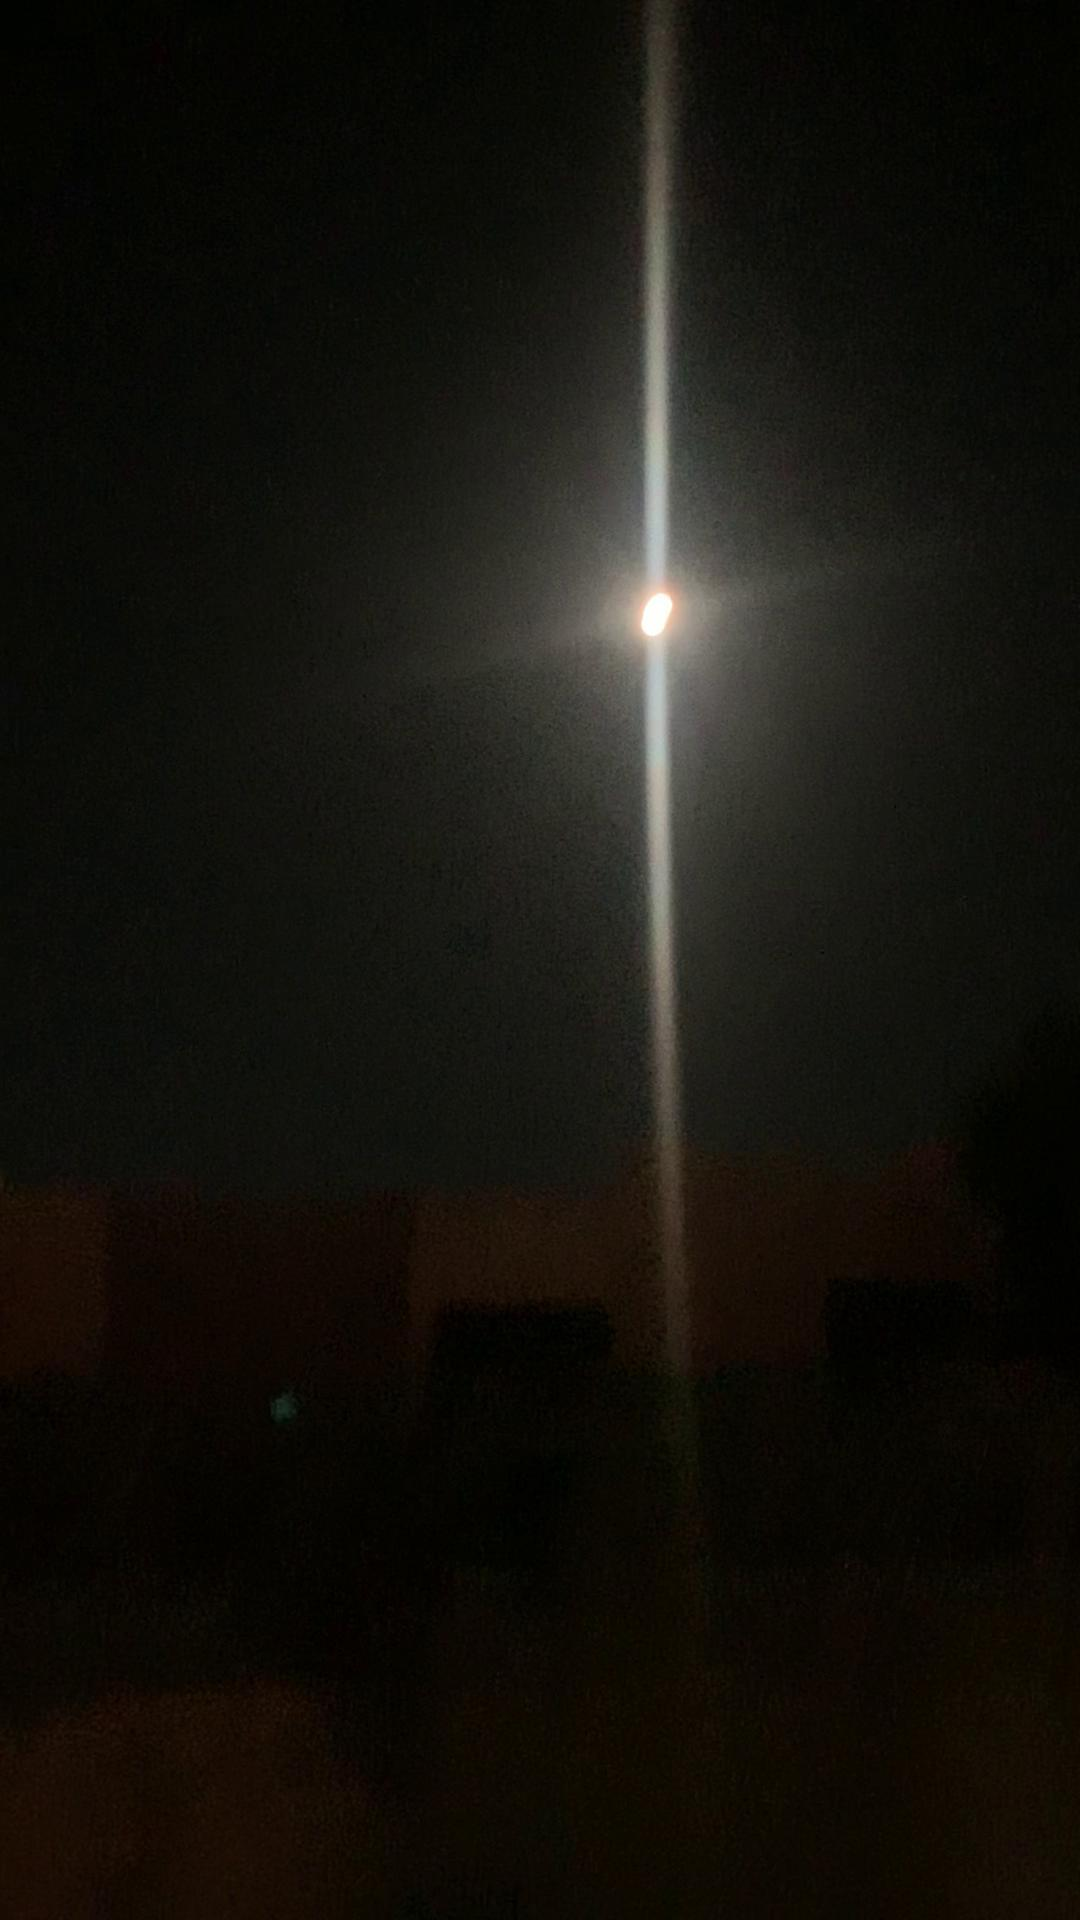moon: (611, 562, 716, 647)
